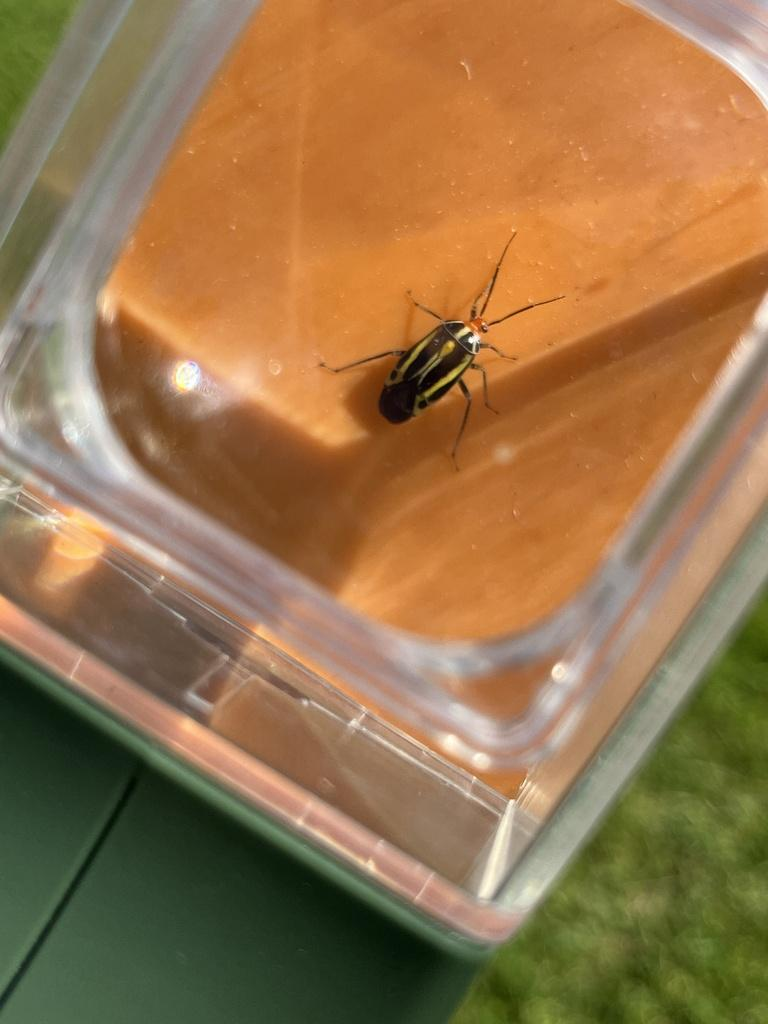plant_bugs: (309, 206, 590, 487)
